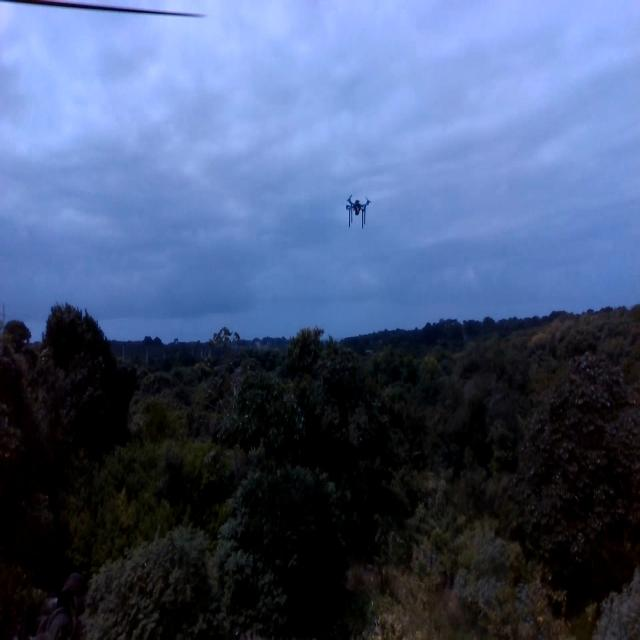-uav-: (338, 185, 379, 240)
